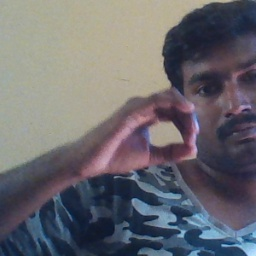O: (88, 84, 200, 179)
